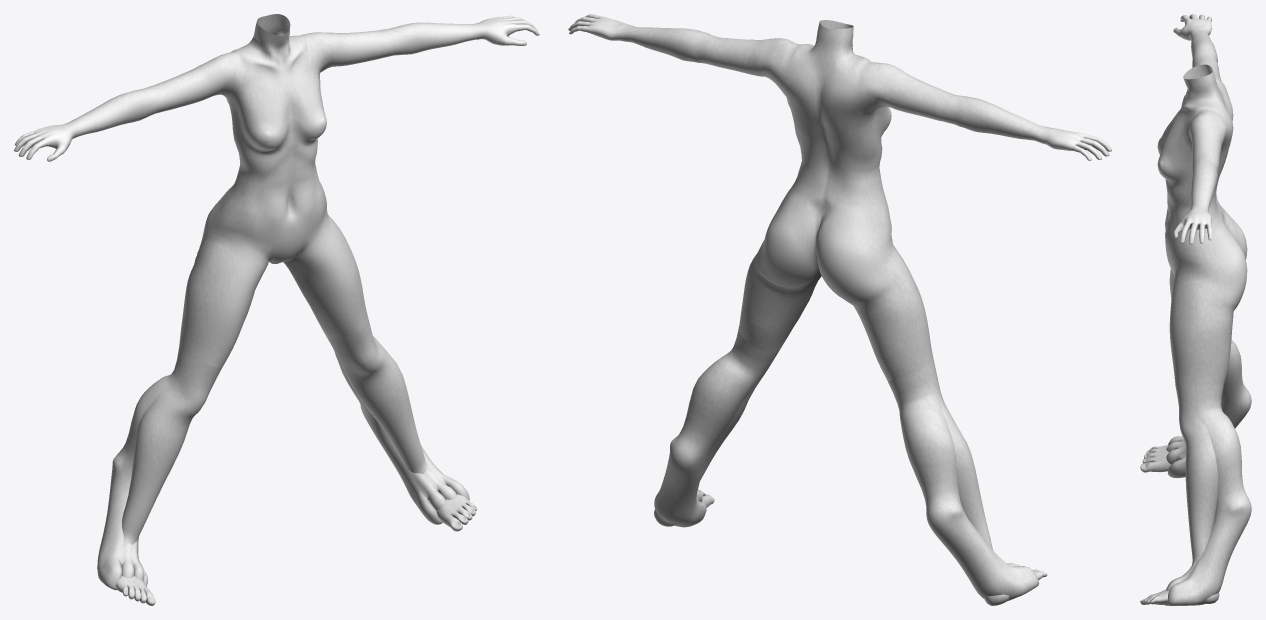
The model's file is MyBody substance painter NEW NEAR.obj.
3 renders of one model, left to right at view 1: azimuth 30°, elevation 25°; view 2: azimuth 150°, elevation 25°; view 3: azimuth 270°, elevation 25°, orthographic. The views are drawn at different scales.
Visible parts, largest first — view 1: Body.003, PlantiLegs.001, Digilegs.001; view 2: Body.003, Digilegs.001, PlantiLegs.001; view 3: Body.003, Digilegs.001, PlantiLegs.001.
Part boxes in pixels (box(x1,y1,x2,y2)): Body.003: box(14, 14, 539, 367); PlantiLegs.001: box(97, 315, 477, 605); Digilegs.001: box(97, 325, 469, 592); Body.003: box(568, 14, 1111, 380); Digilegs.001: box(654, 326, 1039, 601); PlantiLegs.001: box(654, 347, 1047, 605); Body.003: box(1157, 14, 1247, 385); Digilegs.001: box(1164, 340, 1251, 605); PlantiLegs.001: box(1140, 385, 1219, 604).
Size of the model in its own units: 1.6 by 1.56 by 0.3342.
2 materials, 1 textured.
